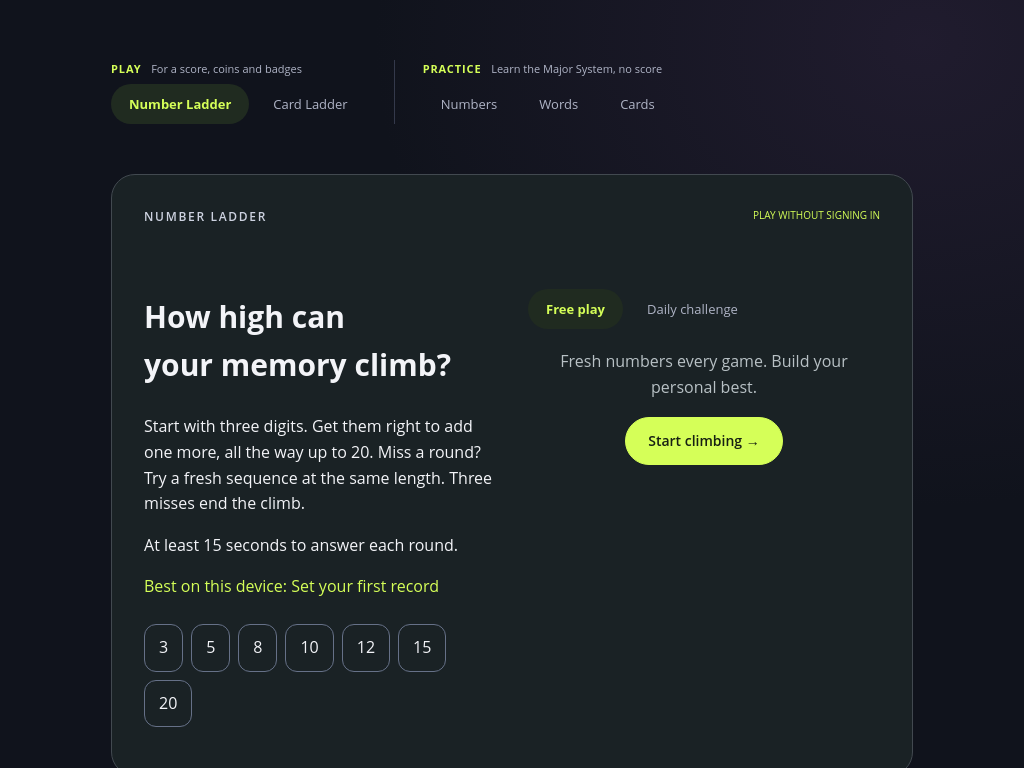
Scenario: switching language mid-climb redraws in the new language and keeps the climb
Later steps or results of the test are not shown.
Click the button "Start climbing →" at (704, 441), box top-left (625, 417), bottom-right (783, 465)
Wait 3300 ms
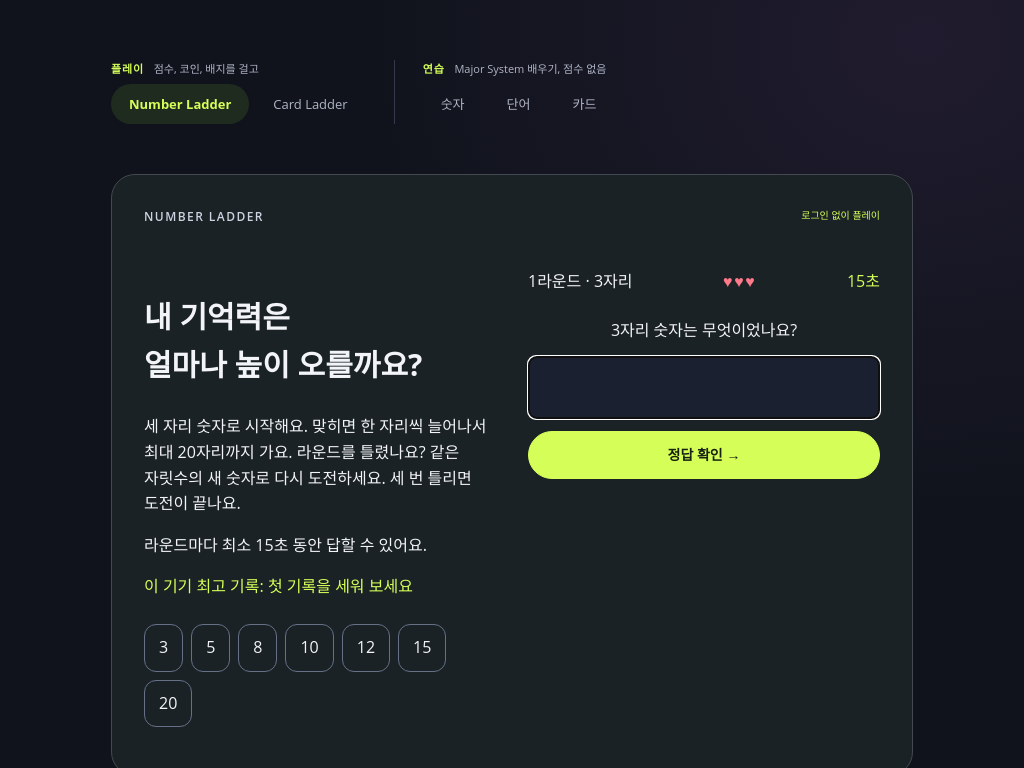
Expected: the button named "Números" is shown, top-left (423, 84), bottom-right (483, 124)
Type "424" into the field labelled "3자리 숫자는 무엇이었나요?" at (704, 387), box top-left (528, 356), bottom-right (880, 419)
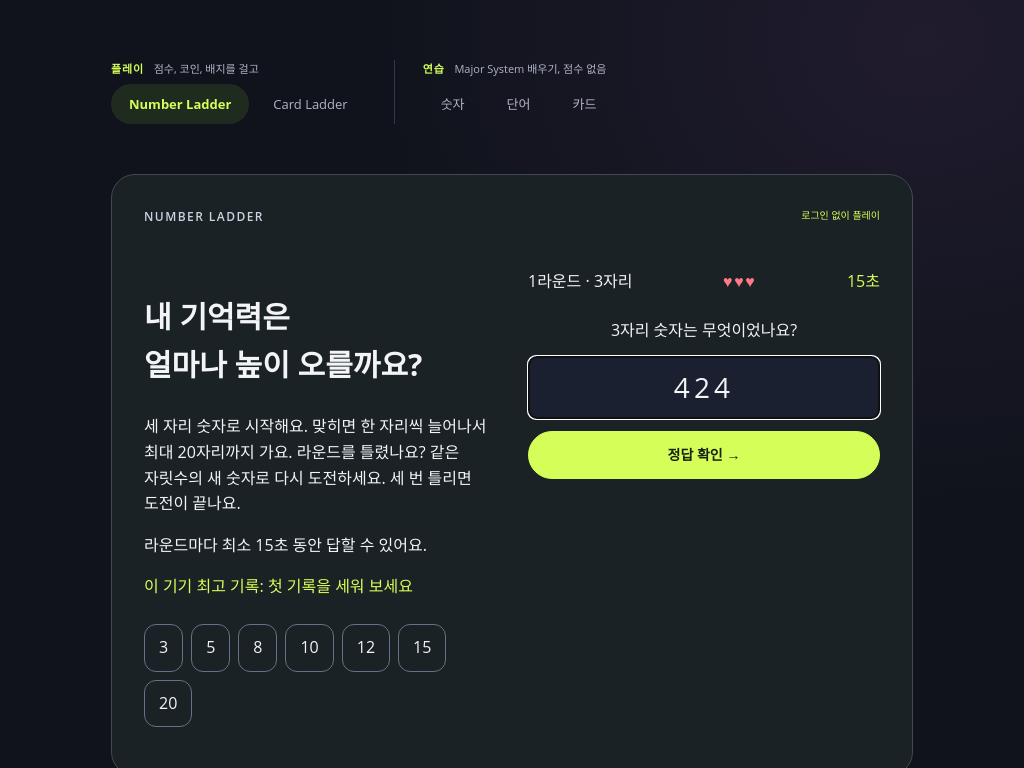
Click the button "정답 확인 →" at (704, 455), box top-left (528, 431), bottom-right (880, 479)
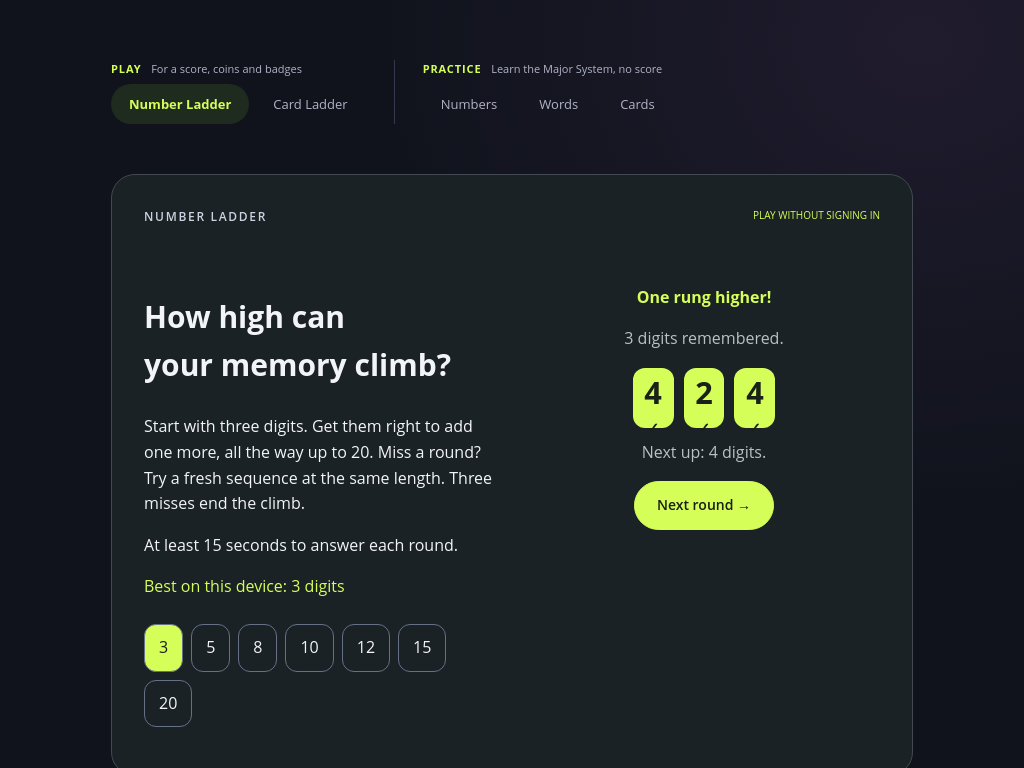
Expected: the button "Next round →" is shown, top-left (634, 481), bottom-right (774, 530)
